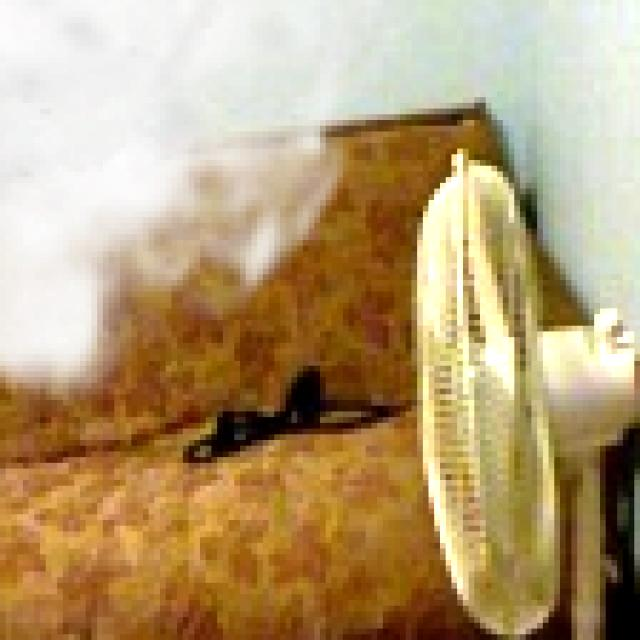smoke: (0, 0, 423, 411)
